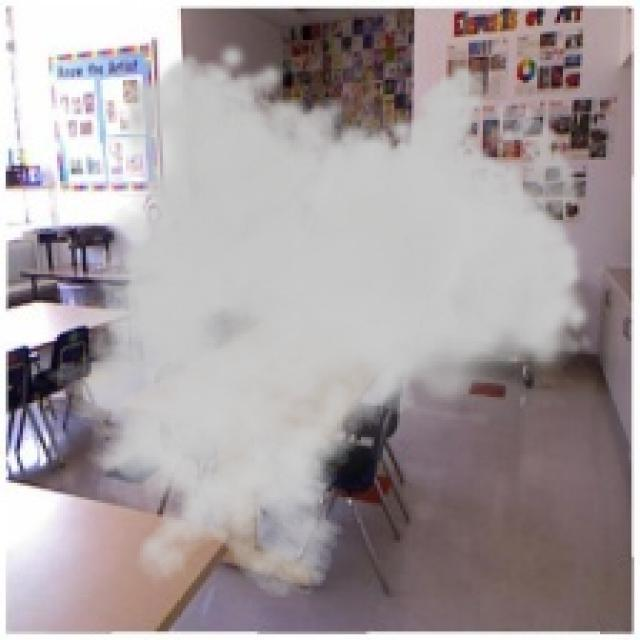Smoke: (26, 40, 594, 600)
